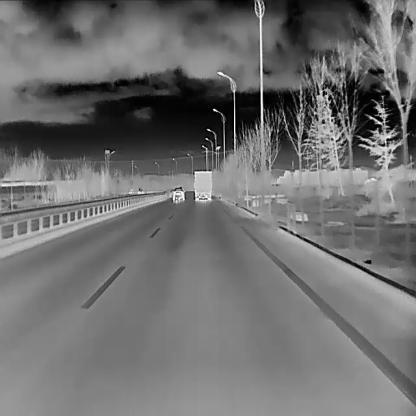car: (172, 186, 185, 202), (136, 184, 143, 195)
truck: (193, 170, 212, 200)
